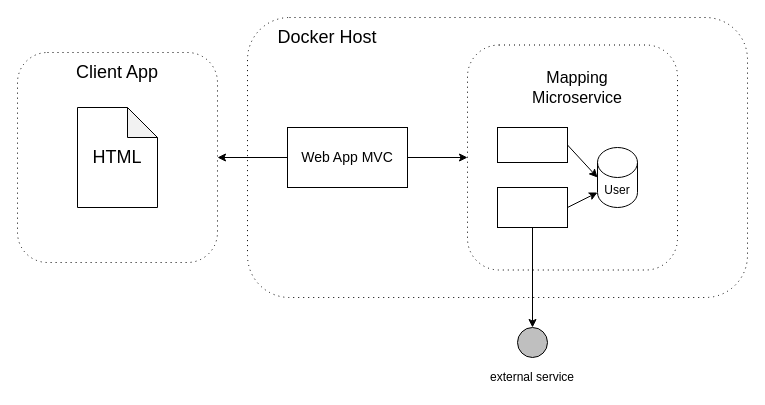
Image size: 765x405. Some labels were removed from this diagram. Here are the shapes that lost their labels. From the top down, the centre of each, then its label:
At point (532, 144): "Map API".
At point (532, 207): "Map Info Finder".
